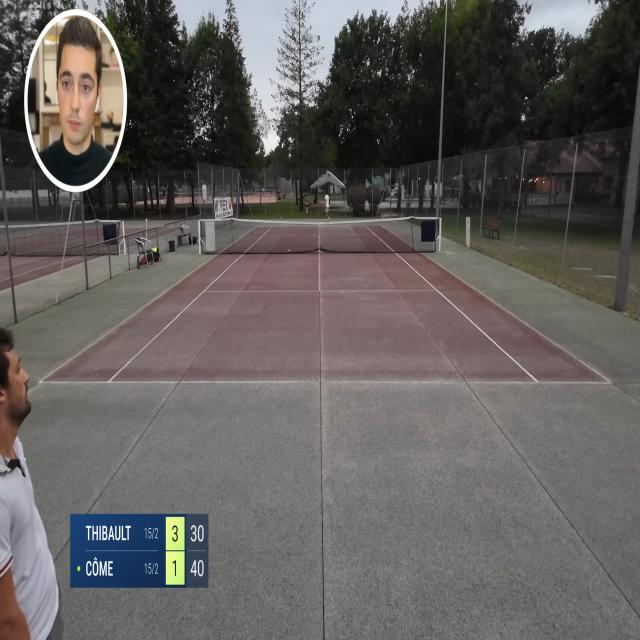ball: (288, 248, 291, 252), (280, 217, 281, 219)
